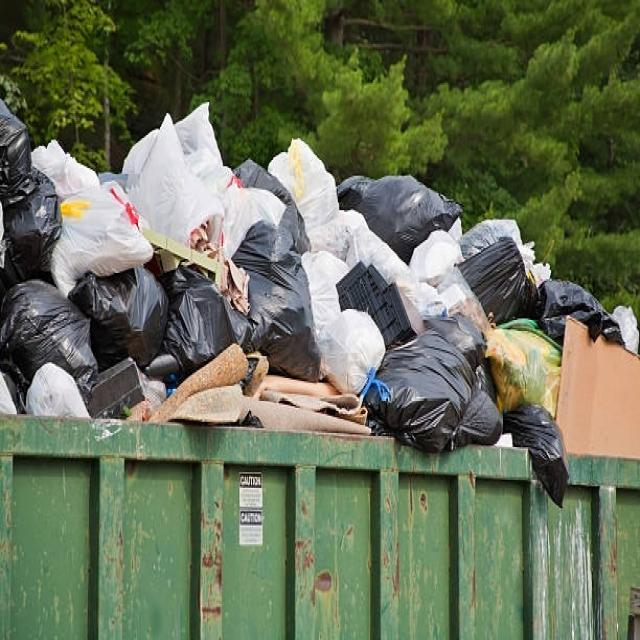garbage: (0, 98, 640, 482)
